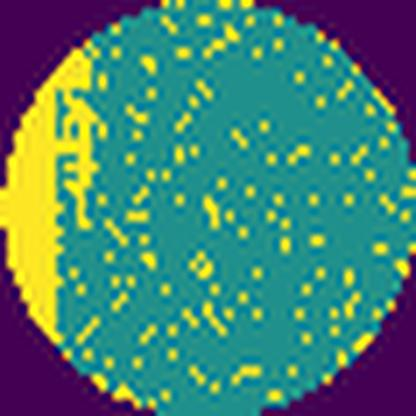Edge-Loc: (0, 42, 107, 346)
